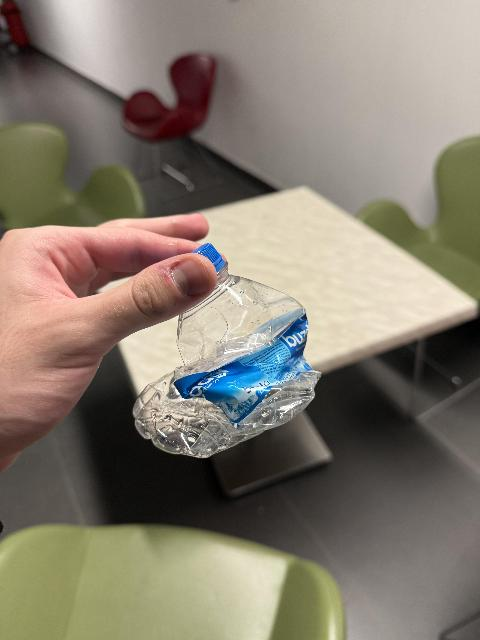Plastik: (141, 245, 320, 455)
